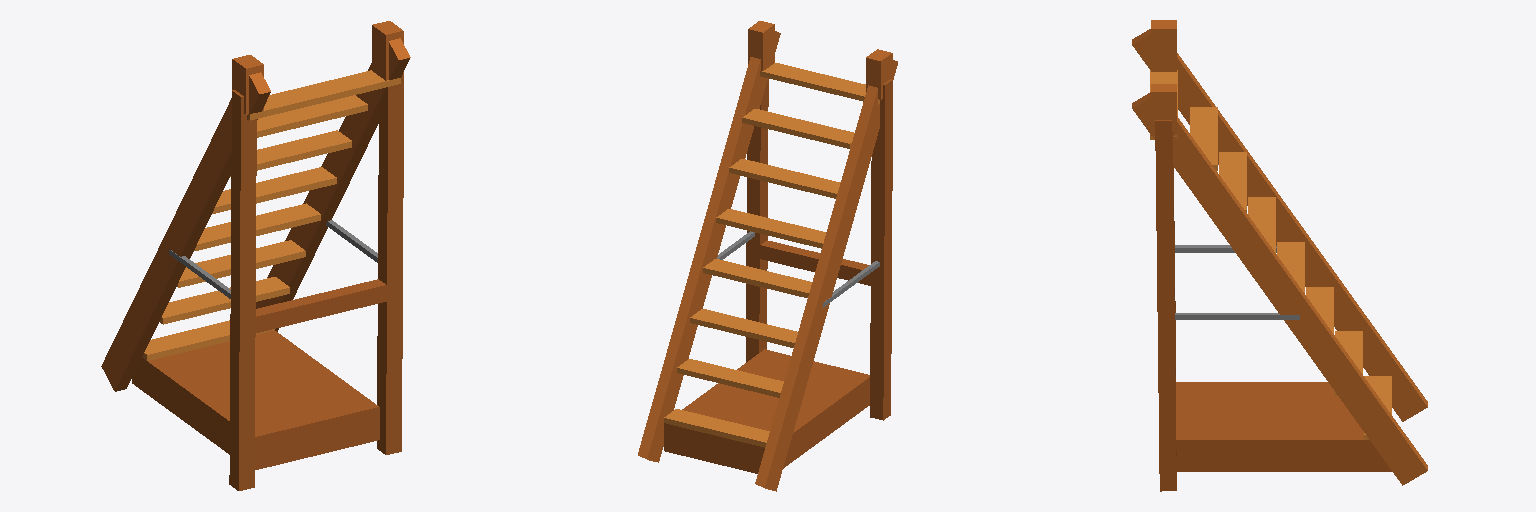
robot.urdf — wood_step_ladder_sim:
<?xml version="1.0"?>
<robot name="wood_step_ladder_sim">
  <!-- Simulation-friendly fixed obstacle: primitive box visuals and collisions. -->
  <!-- Load with fix_base_link=True and disable_gravity=True in Isaac Gym. -->
  <material name="wood_step">
    <color rgba="0.86 0.55 0.25 1.0"/>
  </material>
  <material name="wood_side">
    <color rgba="0.78 0.45 0.20 1.0"/>
  </material>
  <material name="wood_rear">
    <color rgba="0.70 0.40 0.18 1.0"/>
  </material>
  <material name="metal">
    <color rgba="0.55 0.55 0.55 1.0"/>
  </material>
  <link name="base">
    <inertial>
      <origin xyz="0 -0.55 0.90" rpy="0 0 0"/>
      <mass value="1000.0"/>
      <inertia ixx="250.0" ixy="0.0" ixz="0.0" iyy="250.0" iyz="0.0" izz="250.0"/>
    </inertial>
    <visual name="base_platform_visual">
      <origin xyz="0.00000000 -0.52000000 0.08000000" rpy="0.00000000 -0.00000000 0.00000000"/>
      <geometry>
        <box size="0.64000000 1.04000000 0.16000000"/>
      </geometry>
      <material name="wood_rear"/>
    </visual>
    <collision name="base_platform_collision">
      <origin xyz="0.00000000 -0.52000000 0.08000000" rpy="0.00000000 -0.00000000 0.00000000"/>
      <geometry>
        <box size="0.64000000 1.04000000 0.16000000"/>
      </geometry>
    </collision>
    <visual name="step_01_visual">
      <origin xyz="0.00000000 -0.06500000 0.17500000" rpy="0.00000000 -0.00000000 0.00000000"/>
      <geometry>
        <box size="0.64000000 0.13000000 0.03000000"/>
      </geometry>
      <material name="wood_step"/>
    </visual>
    <collision name="step_01_collision">
      <origin xyz="0.00000000 -0.06500000 0.17500000" rpy="0.00000000 -0.00000000 0.00000000"/>
      <geometry>
        <box size="0.64000000 0.13000000 0.03000000"/>
      </geometry>
    </collision>
    <visual name="step_02_visual">
      <origin xyz="0.00000000 -0.20000000 0.40500000" rpy="0.00000000 -0.00000000 0.00000000"/>
      <geometry>
        <box size="0.64000000 0.13000000 0.03000000"/>
      </geometry>
      <material name="wood_step"/>
    </visual>
    <collision name="step_02_collision">
      <origin xyz="0.00000000 -0.20000000 0.40500000" rpy="0.00000000 -0.00000000 0.00000000"/>
      <geometry>
        <box size="0.64000000 0.13000000 0.03000000"/>
      </geometry>
    </collision>
    <visual name="step_03_visual">
      <origin xyz="0.00000000 -0.33500000 0.63500000" rpy="0.00000000 -0.00000000 0.00000000"/>
      <geometry>
        <box size="0.64000000 0.13000000 0.03000000"/>
      </geometry>
      <material name="wood_step"/>
    </visual>
    <collision name="step_03_collision">
      <origin xyz="0.00000000 -0.33500000 0.63500000" rpy="0.00000000 -0.00000000 0.00000000"/>
      <geometry>
        <box size="0.64000000 0.13000000 0.03000000"/>
      </geometry>
    </collision>
    <visual name="step_04_visual">
      <origin xyz="0.00000000 -0.47000000 0.86500000" rpy="0.00000000 -0.00000000 0.00000000"/>
      <geometry>
        <box size="0.64000000 0.13000000 0.03000000"/>
      </geometry>
      <material name="wood_step"/>
    </visual>
    <collision name="step_04_collision">
      <origin xyz="0.00000000 -0.47000000 0.86500000" rpy="0.00000000 -0.00000000 0.00000000"/>
      <geometry>
        <box size="0.64000000 0.13000000 0.03000000"/>
      </geometry>
    </collision>
    <visual name="step_05_visual">
      <origin xyz="0.00000000 -0.60500000 1.09500000" rpy="0.00000000 -0.00000000 0.00000000"/>
      <geometry>
        <box size="0.64000000 0.13000000 0.03000000"/>
      </geometry>
      <material name="wood_step"/>
    </visual>
    <collision name="step_05_collision">
      <origin xyz="0.00000000 -0.60500000 1.09500000" rpy="0.00000000 -0.00000000 0.00000000"/>
      <geometry>
        <box size="0.64000000 0.13000000 0.03000000"/>
      </geometry>
    </collision>
    <visual name="step_06_visual">
      <origin xyz="0.00000000 -0.74000000 1.32500000" rpy="0.00000000 -0.00000000 0.00000000"/>
      <geometry>
        <box size="0.64000000 0.13000000 0.03000000"/>
      </geometry>
      <material name="wood_step"/>
    </visual>
    <collision name="step_06_collision">
      <origin xyz="0.00000000 -0.74000000 1.32500000" rpy="0.00000000 -0.00000000 0.00000000"/>
      <geometry>
        <box size="0.64000000 0.13000000 0.03000000"/>
      </geometry>
    </collision>
    <visual name="step_07_visual">
      <origin xyz="0.00000000 -0.87500000 1.55500000" rpy="0.00000000 -0.00000000 0.00000000"/>
      <geometry>
        <box size="0.64000000 0.13000000 0.03000000"/>
      </geometry>
      <material name="wood_step"/>
    </visual>
    <collision name="step_07_collision">
      <origin xyz="0.00000000 -0.87500000 1.55500000" rpy="0.00000000 -0.00000000 0.00000000"/>
      <geometry>
        <box size="0.64000000 0.13000000 0.03000000"/>
      </geometry>
    </collision>
    <visual name="front_zigzag_side_board_left_visual">
      <origin xyz="-0.35000000 -0.52000000 0.96000000" rpy="0.57637522 0.00000000 0.00000000"/>
      <geometry>
        <box size="0.06000000 0.14000000 2.30829767"/>
      </geometry>
      <material name="wood_side"/>
    </visual>
    <collision name="front_zigzag_side_board_left_collision">
      <origin xyz="-0.35000000 -0.52000000 0.96000000" rpy="0.57637522 0.00000000 0.00000000"/>
      <geometry>
        <box size="0.06000000 0.14000000 2.30829767"/>
      </geometry>
    </collision>
    <visual name="front_zigzag_side_board_right_visual">
      <origin xyz="0.35000000 -0.52000000 0.96000000" rpy="0.57637522 0.00000000 0.00000000"/>
      <geometry>
        <box size="0.06000000 0.14000000 2.30829767"/>
      </geometry>
      <material name="wood_side"/>
    </visual>
    <collision name="front_zigzag_side_board_right_collision">
      <origin xyz="0.35000000 -0.52000000 0.96000000" rpy="0.57637522 0.00000000 0.00000000"/>
      <geometry>
        <box size="0.06000000 0.14000000 2.30829767"/>
      </geometry>
    </collision>
    <visual name="top_platform_visual">
      <origin xyz="0.00000000 -1.05950000 1.74500000" rpy="0.00000000 -0.00000000 0.00000000"/>
      <geometry>
        <box size="0.76000000 0.13000000 0.03000000"/>
      </geometry>
      <material name="wood_step"/>
    </visual>
    <collision name="top_platform_collision">
      <origin xyz="0.00000000 -1.05950000 1.74500000" rpy="0.00000000 -0.00000000 0.00000000"/>
      <geometry>
        <box size="0.76000000 0.13000000 0.03000000"/>
      </geometry>
    </collision>
    <visual name="top_high_post_left_visual">
      <origin xyz="-0.35000000 -1.05950000 1.87000000" rpy="0.00000000 -0.00000000 0.00000000"/>
      <geometry>
        <box size="0.09000000 0.12000000 0.22000000"/>
      </geometry>
      <material name="wood_side"/>
    </visual>
    <collision name="top_high_post_left_collision">
      <origin xyz="-0.35000000 -1.05950000 1.87000000" rpy="0.00000000 -0.00000000 0.00000000"/>
      <geometry>
        <box size="0.09000000 0.12000000 0.22000000"/>
      </geometry>
    </collision>
    <visual name="top_high_post_right_visual">
      <origin xyz="0.35000000 -1.05950000 1.87000000" rpy="0.00000000 -0.00000000 0.00000000"/>
      <geometry>
        <box size="0.09000000 0.12000000 0.22000000"/>
      </geometry>
      <material name="wood_side"/>
    </visual>
    <collision name="top_high_post_right_collision">
      <origin xyz="0.35000000 -1.05950000 1.87000000" rpy="0.00000000 -0.00000000 0.00000000"/>
      <geometry>
        <box size="0.09000000 0.12000000 0.22000000"/>
      </geometry>
    </collision>
    <visual name="rear_support_leg_left_visual">
      <origin xyz="-0.37000000 -1.04975000 0.89000000" rpy="0.01120643 0.00000000 0.00000000"/>
      <geometry>
        <box size="0.08000000 0.08000000 1.90010926"/>
      </geometry>
      <material name="wood_rear"/>
    </visual>
    <collision name="rear_support_leg_left_collision">
      <origin xyz="-0.37000000 -1.04975000 0.89000000" rpy="0.01120643 0.00000000 0.00000000"/>
      <geometry>
        <box size="0.08000000 0.08000000 1.90010926"/>
      </geometry>
    </collision>
    <visual name="rear_support_leg_right_visual">
      <origin xyz="0.37000000 -1.04975000 0.89000000" rpy="0.01120643 0.00000000 0.00000000"/>
      <geometry>
        <box size="0.08000000 0.08000000 1.90010926"/>
      </geometry>
      <material name="wood_rear"/>
    </visual>
    <collision name="rear_support_leg_right_collision">
      <origin xyz="0.37000000 -1.04975000 0.89000000" rpy="0.01120643 0.00000000 0.00000000"/>
      <geometry>
        <box size="0.08000000 0.08000000 1.90010926"/>
      </geometry>
    </collision>
    <visual name="rear_middle_cross_beam_visual">
      <origin xyz="0.00000000 -1.04877500 0.72000000" rpy="0.00000000 -0.00000000 0.00000000"/>
      <geometry>
        <box size="0.76000000 0.07000000 0.08000000"/>
      </geometry>
      <material name="wood_rear"/>
    </visual>
    <collision name="rear_middle_cross_beam_collision">
      <origin xyz="0.00000000 -1.04877500 0.72000000" rpy="0.00000000 -0.00000000 0.00000000"/>
      <geometry>
        <box size="0.76000000 0.07000000 0.08000000"/>
      </geometry>
    </collision>
    <visual name="side_limit_bar_left_visual">
      <origin xyz="-0.37000000 -0.73949687 0.82000000" rpy="0.00000000 -0.00000000 0.00000000"/>
      <geometry>
        <box size="0.02500000 0.62099375 0.02500000"/>
      </geometry>
      <material name="metal"/>
    </visual>
    <collision name="side_limit_bar_left_collision">
      <origin xyz="-0.37000000 -0.73949687 0.82000000" rpy="0.00000000 -0.00000000 0.00000000"/>
      <geometry>
        <box size="0.02500000 0.62099375 0.02500000"/>
      </geometry>
    </collision>
    <visual name="side_limit_bar_right_visual">
      <origin xyz="0.37000000 -0.73949687 0.82000000" rpy="0.00000000 -0.00000000 0.00000000"/>
      <geometry>
        <box size="0.02500000 0.62099375 0.02500000"/>
      </geometry>
      <material name="metal"/>
    </visual>
    <collision name="side_limit_bar_right_collision">
      <origin xyz="0.37000000 -0.73949687 0.82000000" rpy="0.00000000 -0.00000000 0.00000000"/>
      <geometry>
        <box size="0.02500000 0.62099375 0.02500000"/>
      </geometry>
    </collision>
  </link>
  <gazebo>
    <static>true</static>
  </gazebo>
</robot>

--- Facts derived from the render (not from the file) ---
The picture shows the robot from 3 angles, left to right: view 1: azimuth 30°, elevation 25°; view 2: azimuth 150°, elevation 25°; view 3: azimuth 270°, elevation 25°; orthographic projection.
Model wood_step_ladder_sim with 1 links and 0 joints (none), rooted at base, posed all joints at 0.
Links seen in each view (by area): view 1: base; view 2: base; view 3: base.
Link boxes in pixels (box(x1,y1,x2,y2)): base: box(101, 21, 410, 490); base: box(638, 21, 897, 491); base: box(1132, 20, 1427, 491).
Bounding box of the posed robot: 0.82 × 1.38 × 2.04 m (x, y, z).
Geometry: primitives only (box / cylinder / sphere), no mesh files.
